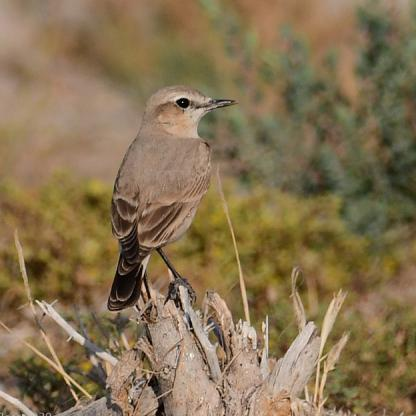Burung: (102, 82, 240, 316)
